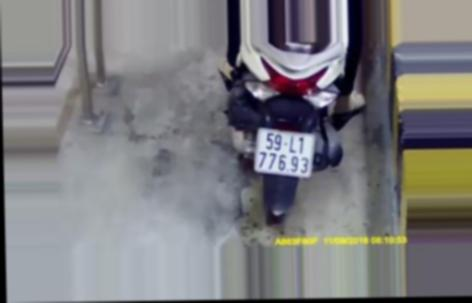License_Plate: (249, 123, 320, 183)
